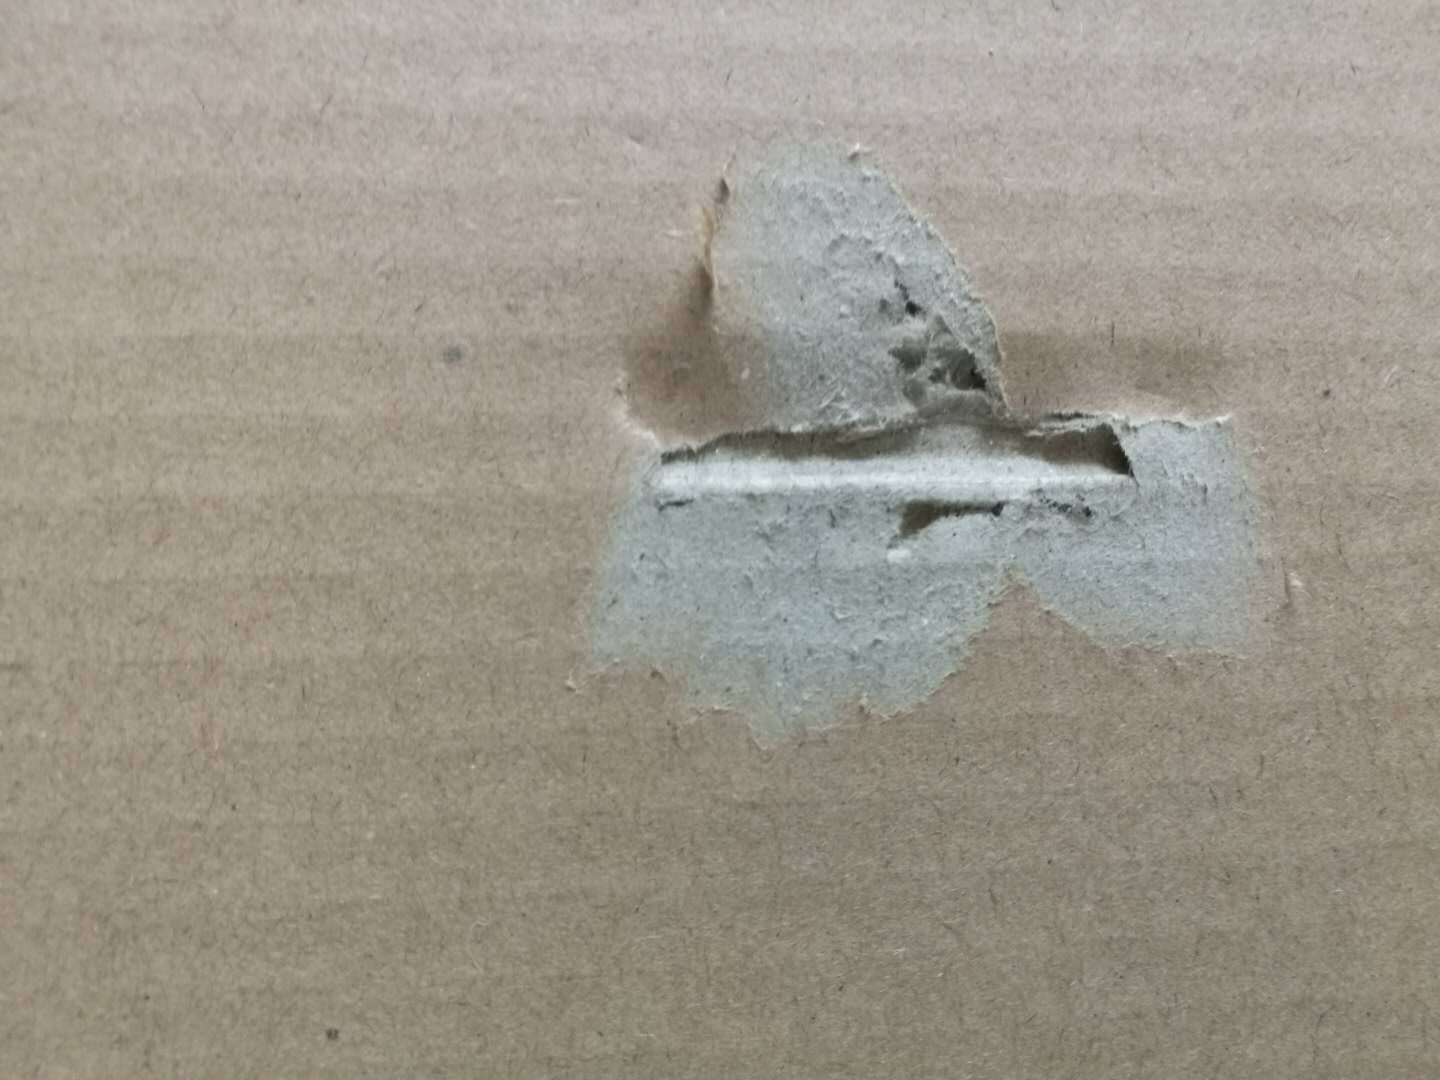defect: (531, 93, 1332, 775)
